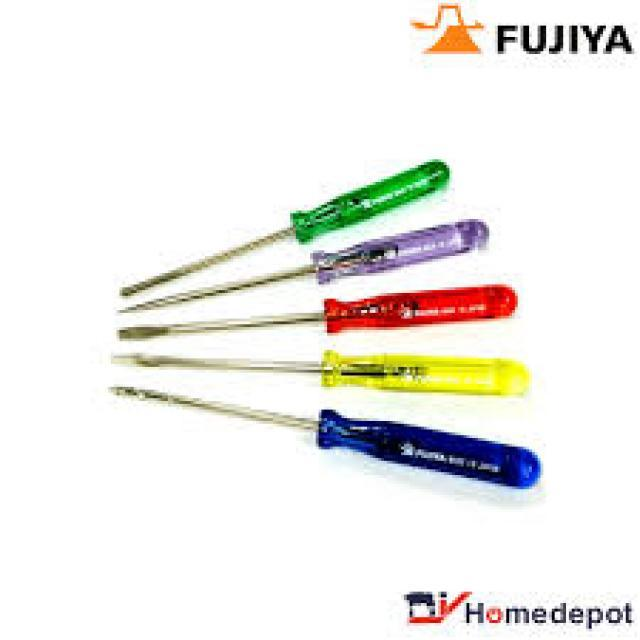screwdriver: (115, 150, 462, 304), (108, 384, 549, 495), (112, 216, 491, 316), (114, 284, 526, 347), (108, 347, 532, 401)
